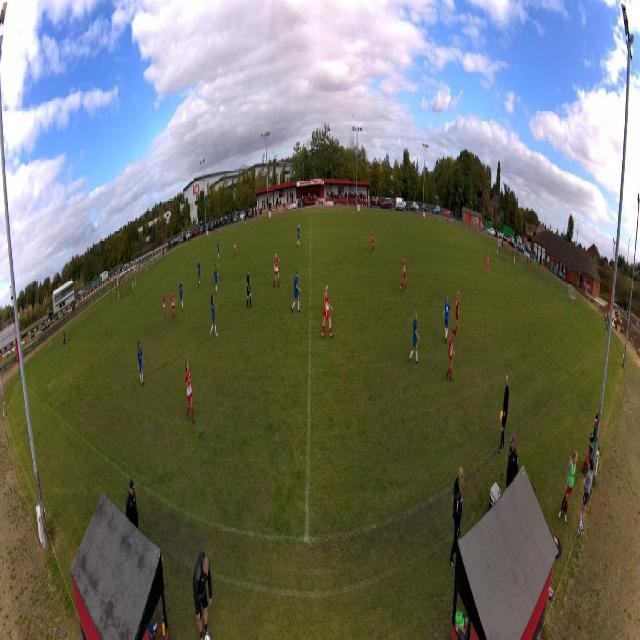ball: (204, 632, 211, 640)
player: (320, 284, 334, 340), (408, 309, 420, 367), (185, 360, 195, 425), (446, 328, 456, 383), (291, 267, 302, 315), (442, 294, 450, 346), (210, 293, 219, 338), (137, 340, 145, 388), (400, 254, 408, 295), (454, 289, 460, 338), (273, 252, 280, 289), (246, 268, 252, 310), (170, 289, 176, 323), (213, 264, 219, 296), (178, 279, 184, 311), (162, 293, 167, 324), (197, 259, 201, 289), (297, 222, 301, 249), (371, 228, 375, 254), (485, 253, 489, 277), (233, 235, 237, 259), (217, 240, 221, 261), (132, 279, 136, 299)
